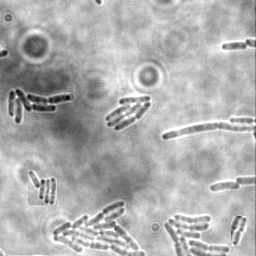Dividing: (161, 123, 255, 142), (231, 216, 247, 246), (221, 41, 248, 52)
Microcolony: (51, 200, 147, 255), (162, 212, 231, 255), (8, 89, 72, 126), (106, 96, 153, 132), (28, 170, 57, 205), (208, 182, 240, 193)
